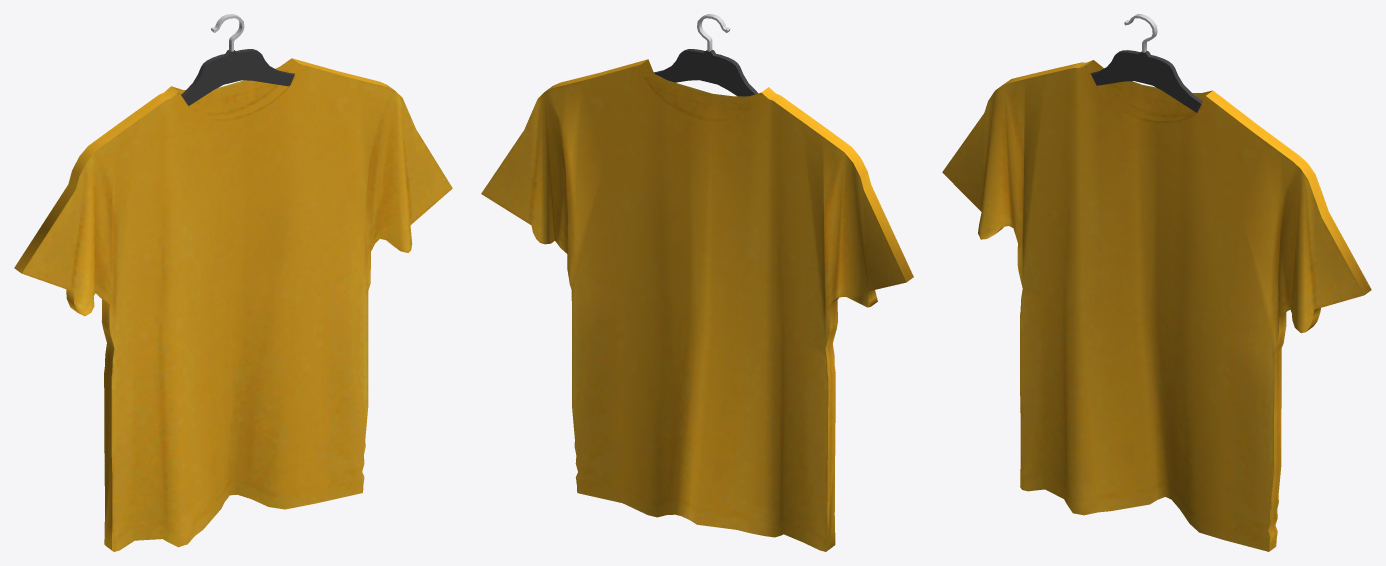
The model's file is TShirt_Hanging_Yellow.fbx.
3 renders of one model, left to right at view 1: azimuth 30°, elevation 25°; view 2: azimuth 150°, elevation 25°; view 3: azimuth 330°, elevation 25°, orthographic.
Parts seen in each view (by area): view 1: TShirt, Hanger; view 2: TShirt, Hanger; view 3: TShirt, Hanger.
Part boxes in pixels (bbox=[...]): TShirt: bbox=[14, 58, 452, 551]; Hanger: bbox=[181, 49, 294, 105]; TShirt: bbox=[481, 59, 913, 551]; Hanger: bbox=[653, 49, 757, 96]; TShirt: bbox=[942, 60, 1371, 551]; Hanger: bbox=[1090, 50, 1202, 112].
Bounding box in the file's own units: 0.8189 × 0.9312 × 0.094.
